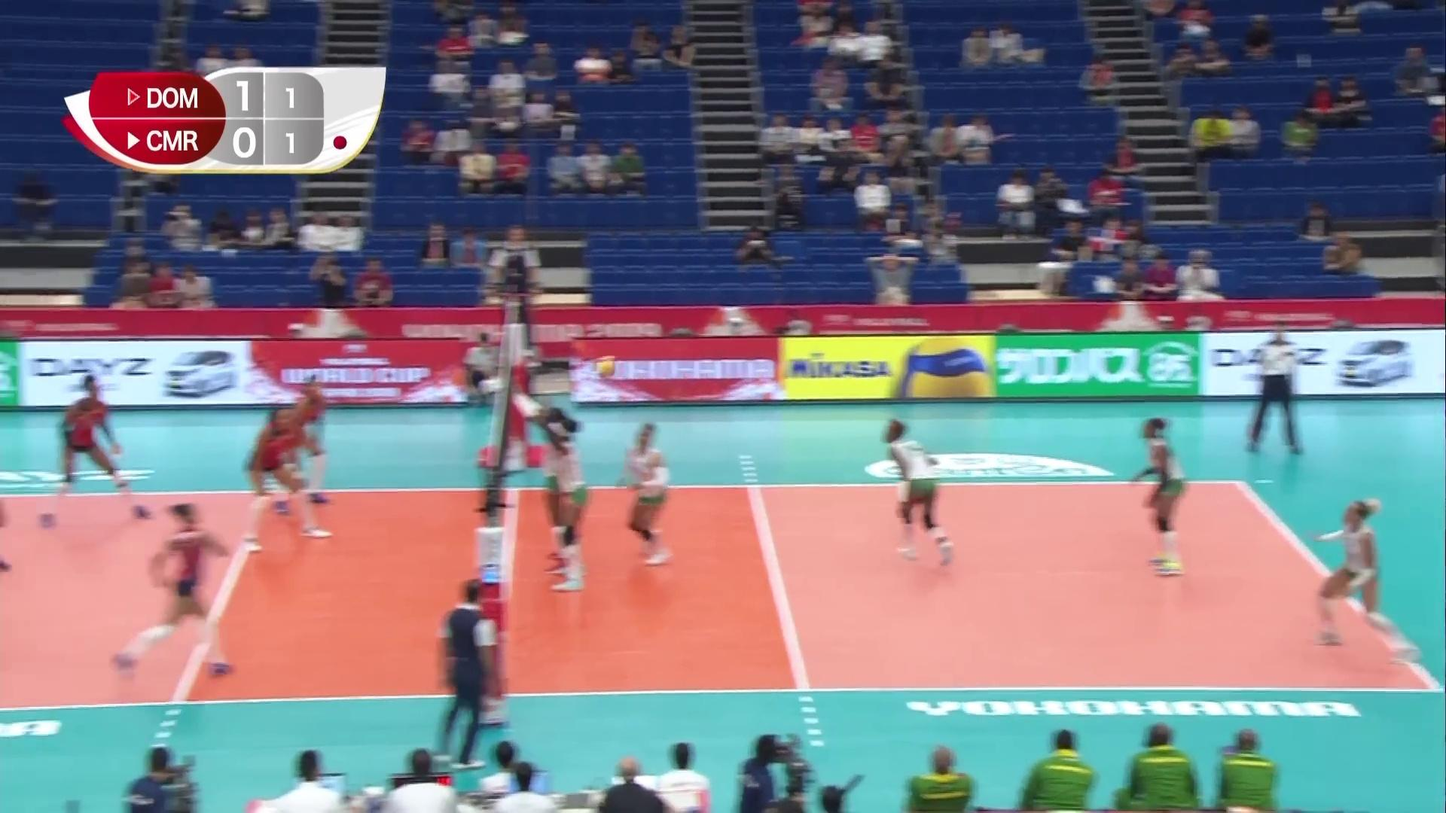player: (119, 504, 234, 675), (40, 375, 156, 526), (1315, 499, 1419, 659), (246, 407, 328, 553), (879, 420, 955, 564), (523, 394, 575, 574), (1135, 418, 1188, 573), (543, 416, 588, 592), (622, 424, 674, 566), (274, 381, 329, 506)
refree: (433, 577, 498, 772), (1245, 321, 1304, 455), (493, 224, 541, 362)
